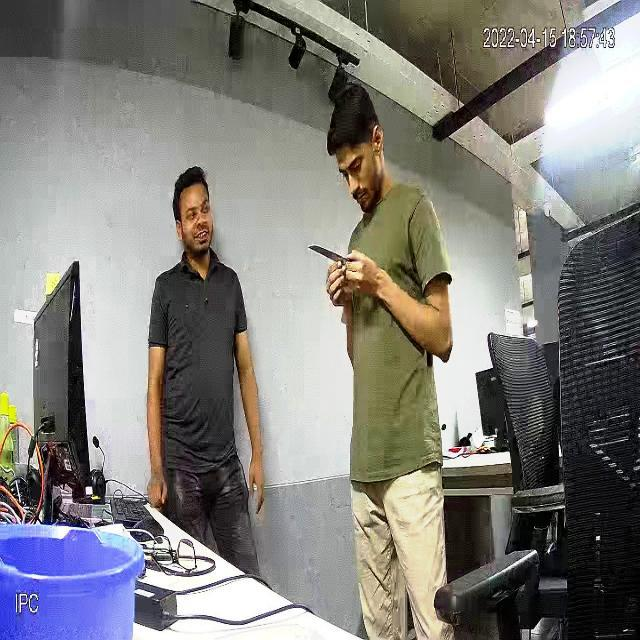Knife: (293, 232, 369, 289)
